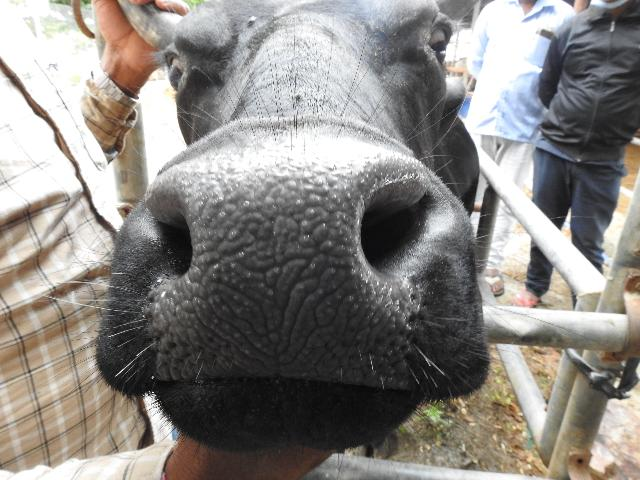Muzzle: (192, 170, 356, 376)
